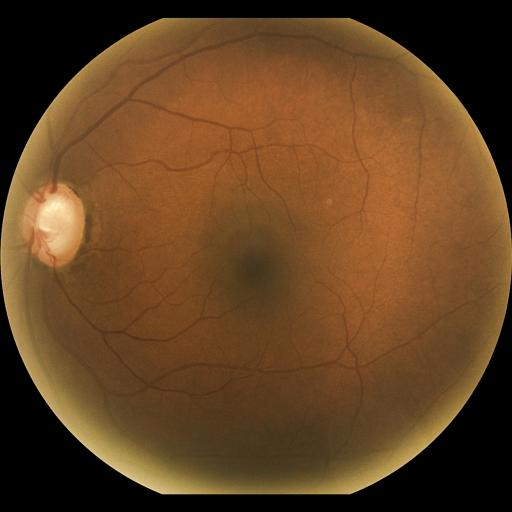Optic Cup: (34, 195, 71, 249)
Optic Disc: (22, 182, 84, 267)
